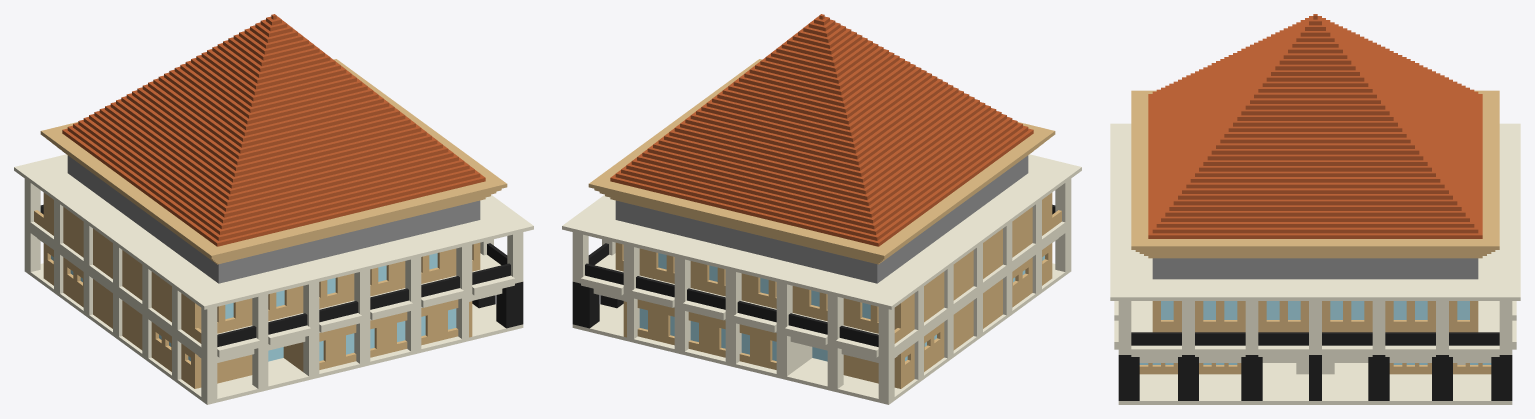
File: Gedung FILKOM-0-Gedung G.obj
3 views of the same model, side by side, from view 1: azimuth 30°, elevation 25°; view 2: azimuth 150°, elevation 25°; view 3: azimuth 270°, elevation 25° (orthographic). The views are drawn at different scales.
Visible parts, largest first — view 1: Gedung G; view 2: Gedung G; view 3: Gedung G.
Boxes of the visible parts, x1,y1,x2,y2 form: Gedung G: (14,14,533,404); Gedung G: (562,14,1081,404); Gedung G: (1110,14,1520,404).
Bounding box in the file's own units: 9.7 × 8 × 9.7.
1 material, 1 textured.
